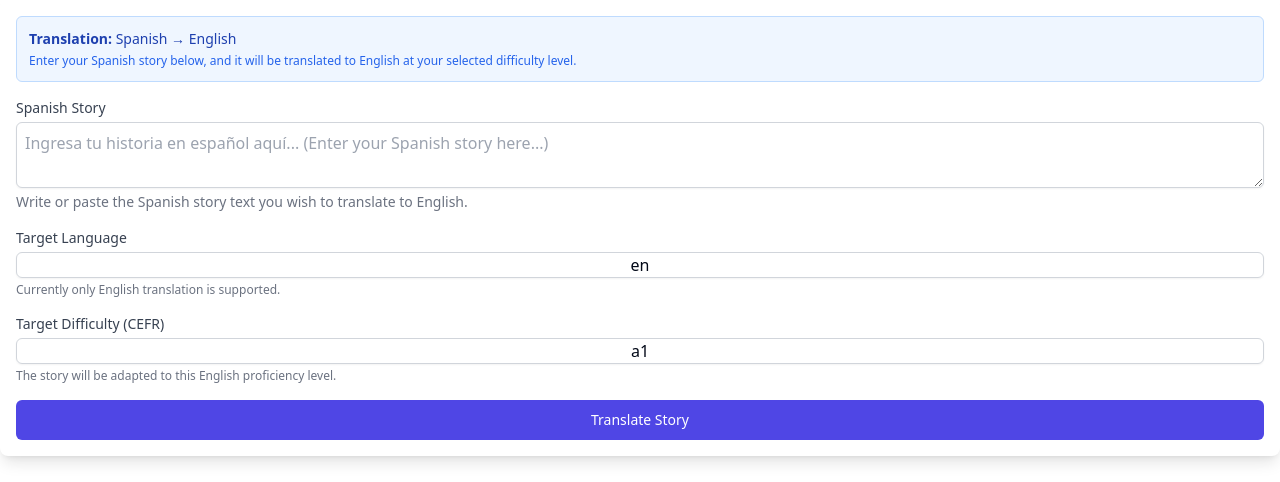
Test: StoryUploadForm › handles select changes for difficulty
Click the dropdown named "Select difficulty level".
click(640, 351)  # box [16, 338, 1264, 364]
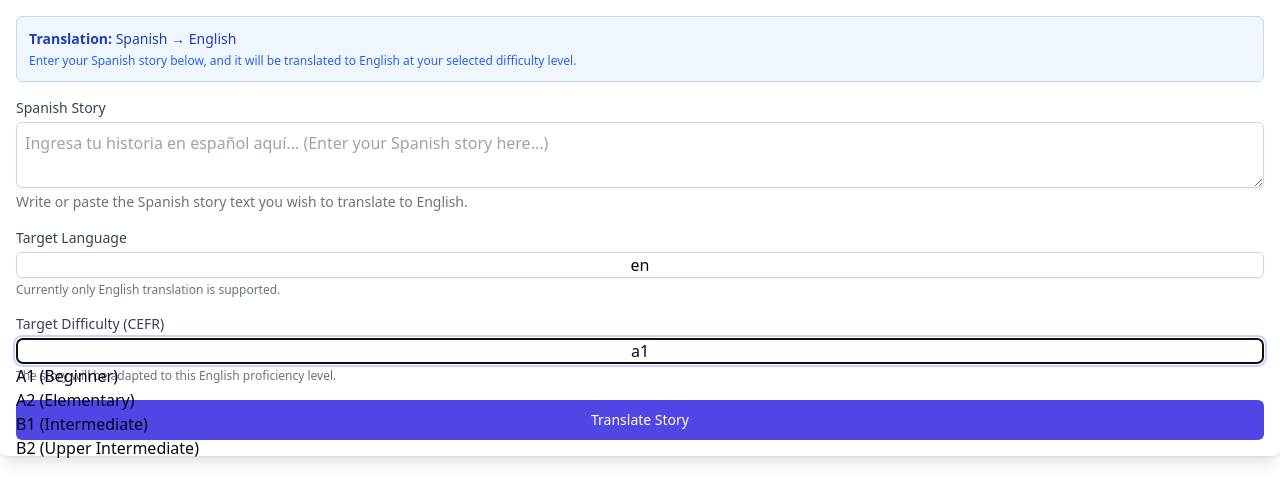
Click the option "B1 (Intermediate)".
click(82, 424)  # box [16, 413, 148, 435]
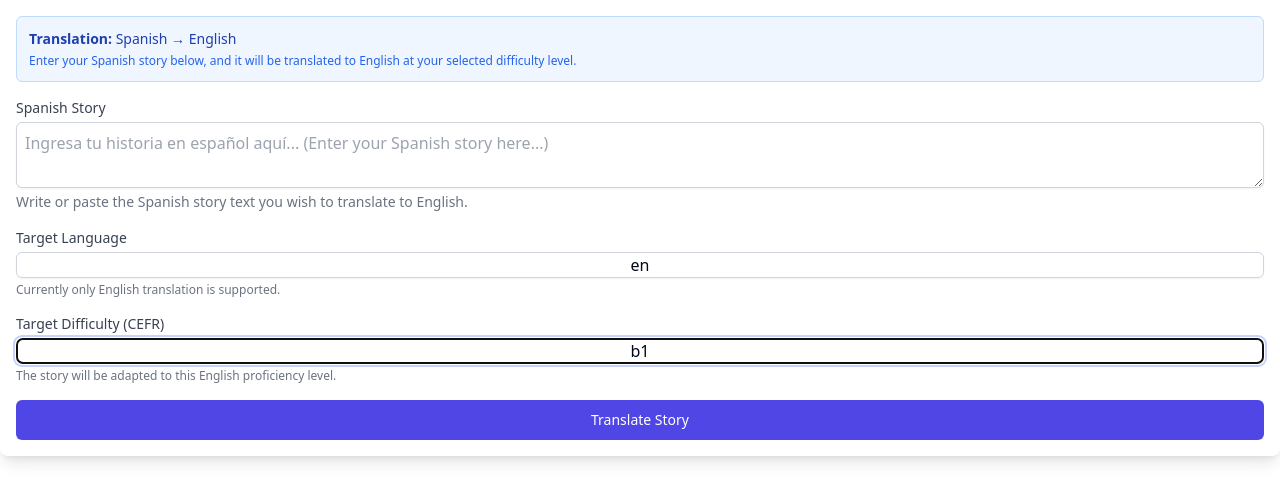
Expected: the dropdown named "Select difficulty level" reads "b1", [16, 338, 1264, 364]
